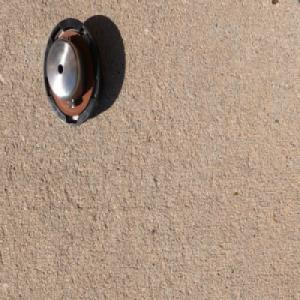FuelCap: (42, 15, 104, 129)
